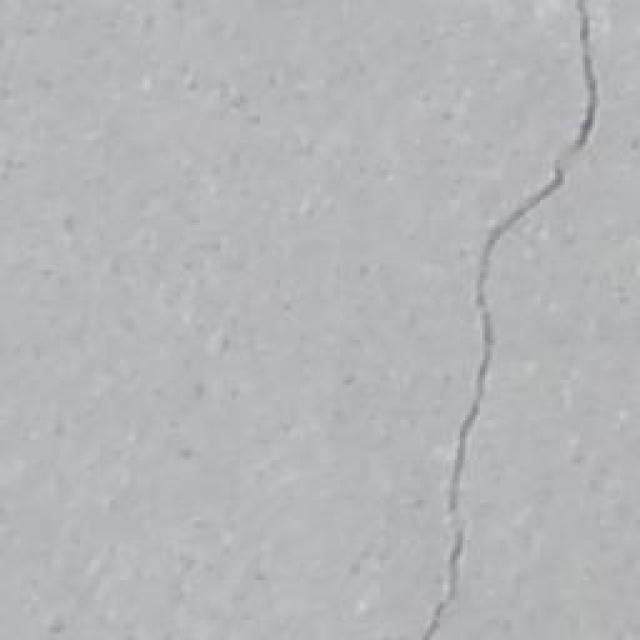concrete-crack: (418, 0, 595, 640)
